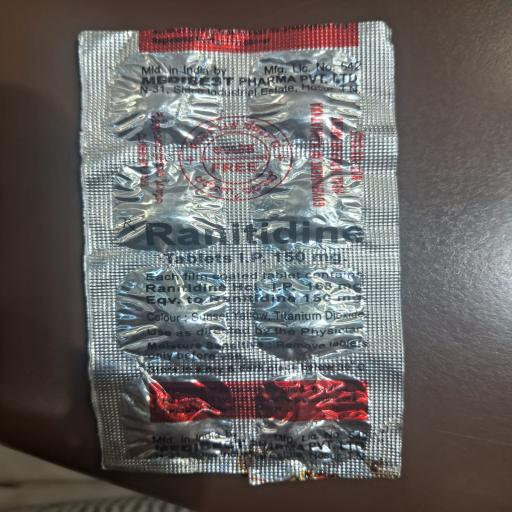medicine: (72, 37, 392, 472)
ranitidine: (143, 213, 374, 252)
